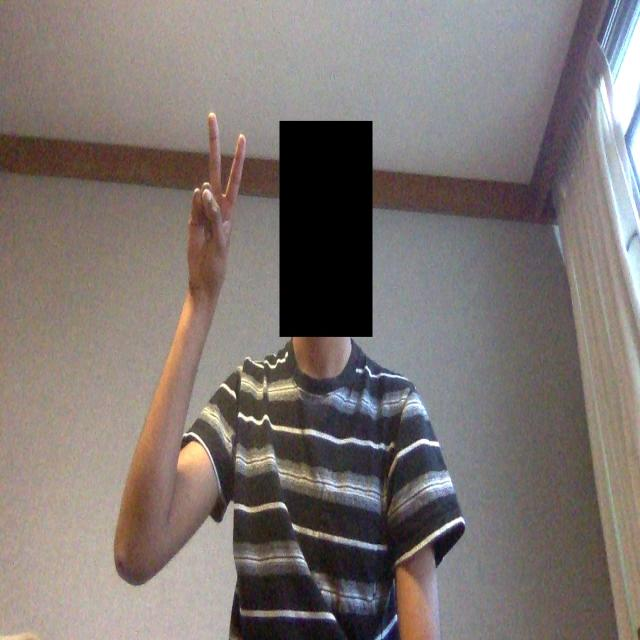V: (170, 91, 262, 318)
